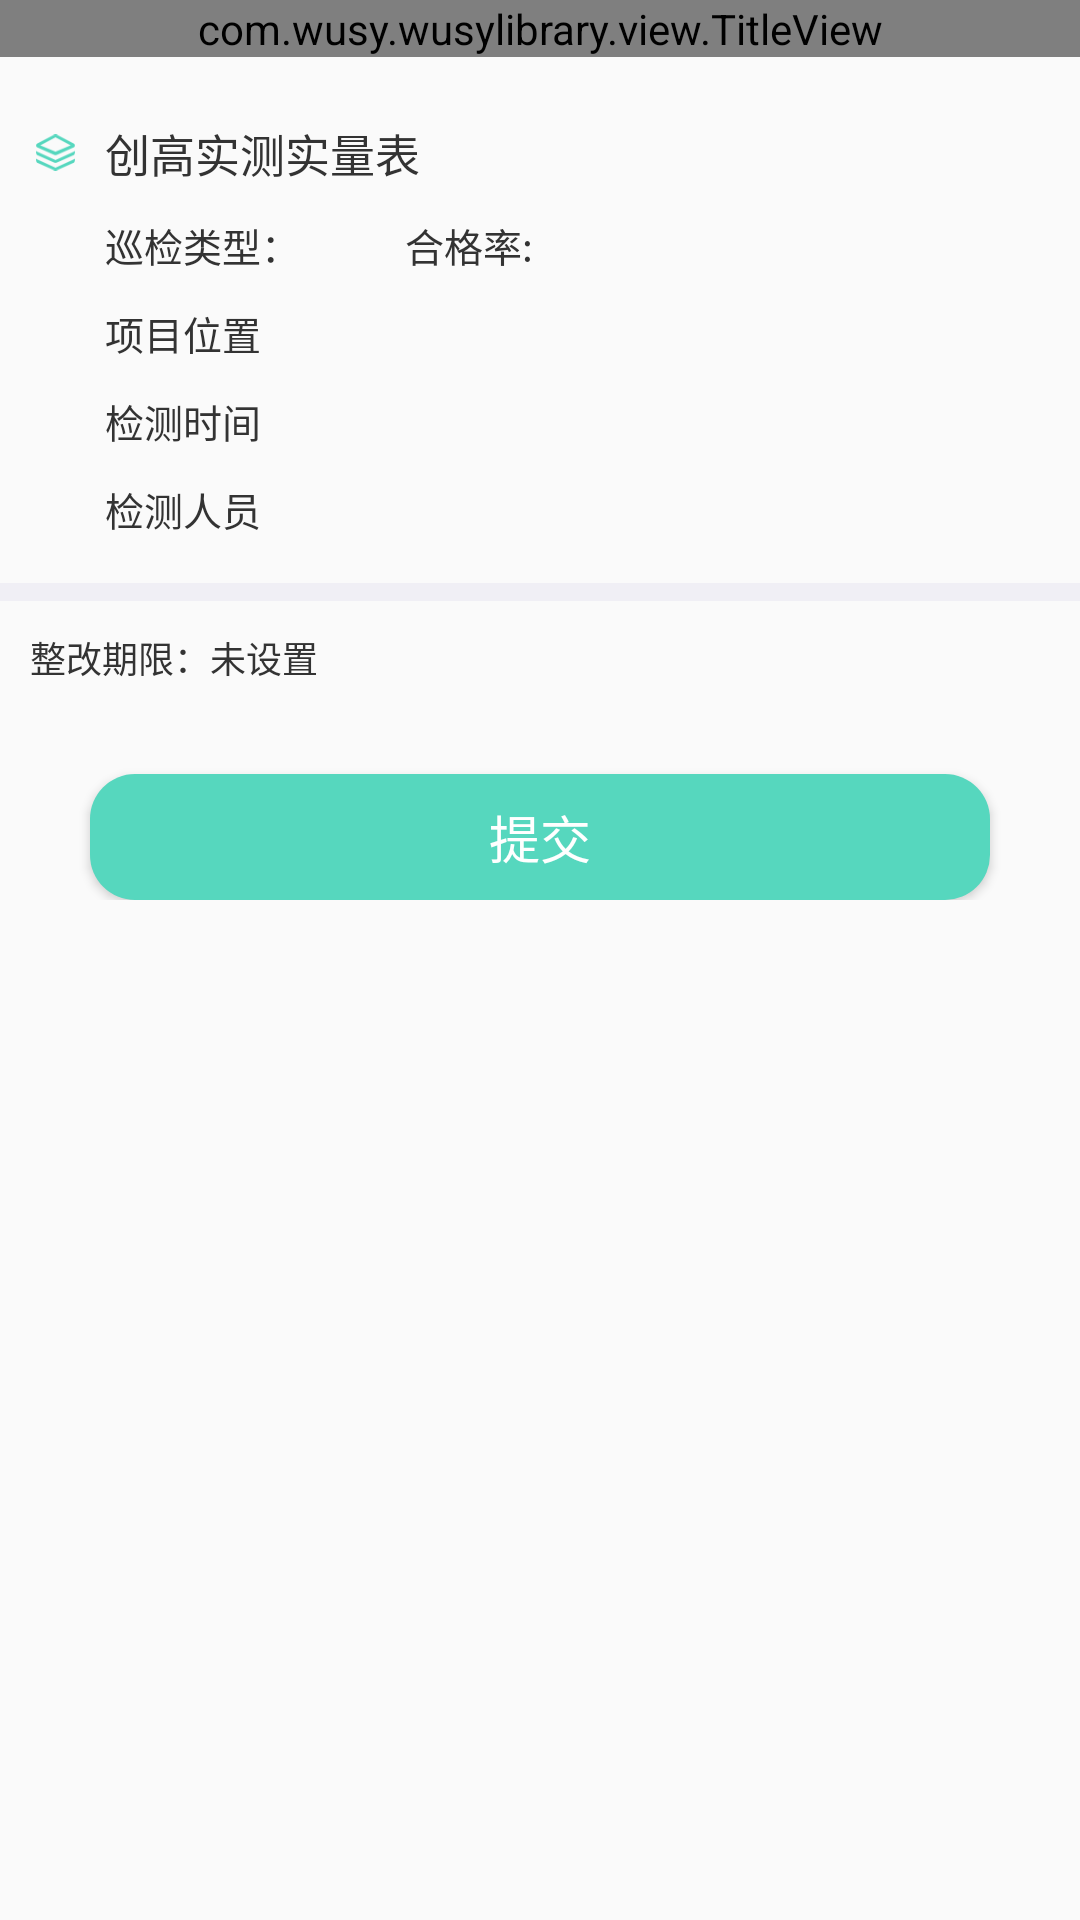

Screen size 1080x1920. Icon name, then its box in pixels as [left=x1, top=y1, right=x2, bottom=y2]:
xiangmu: [left=36, top=134, right=75, bottom=171]
